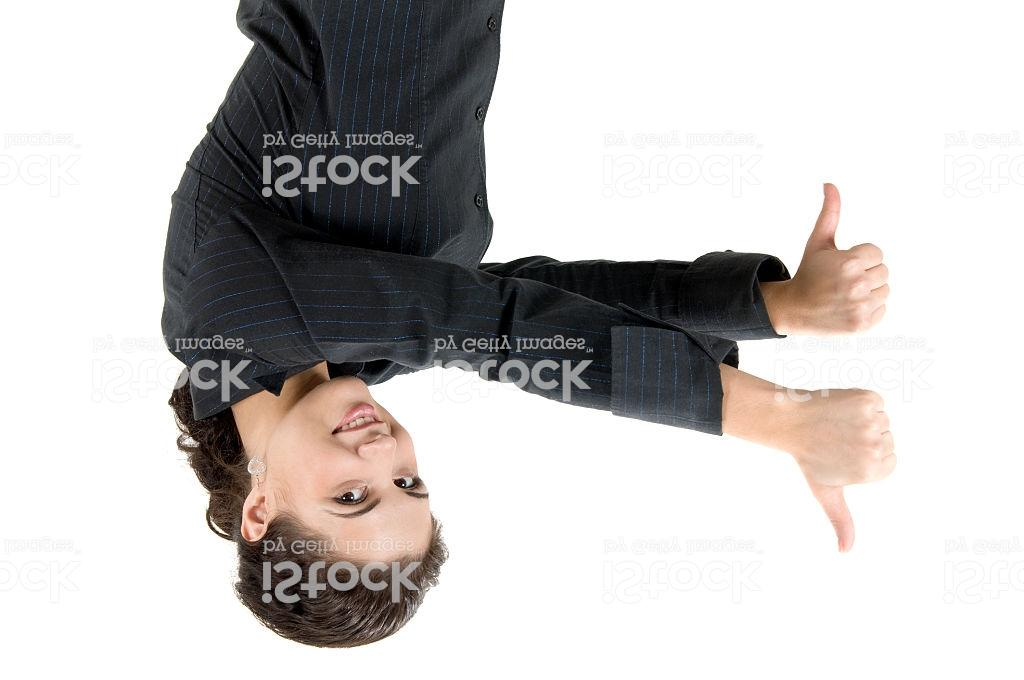thumbsdown: (817, 389, 900, 555)
